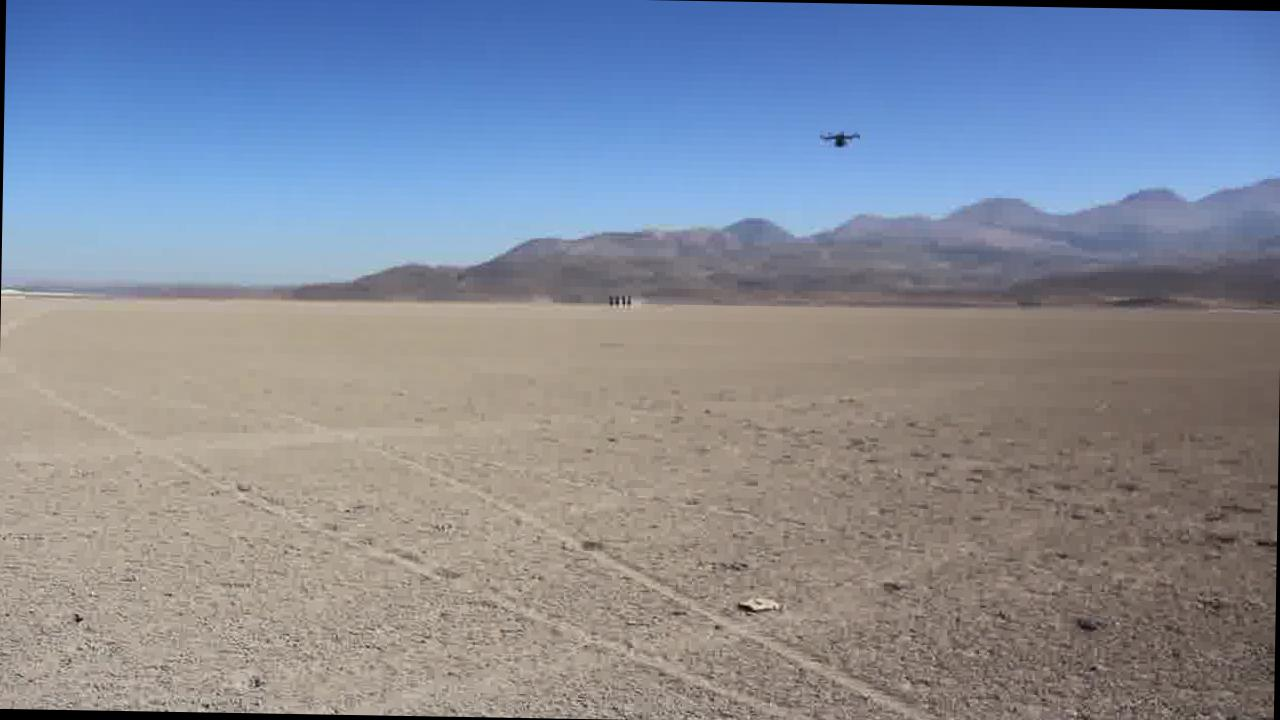drone: (811, 122, 866, 150)
